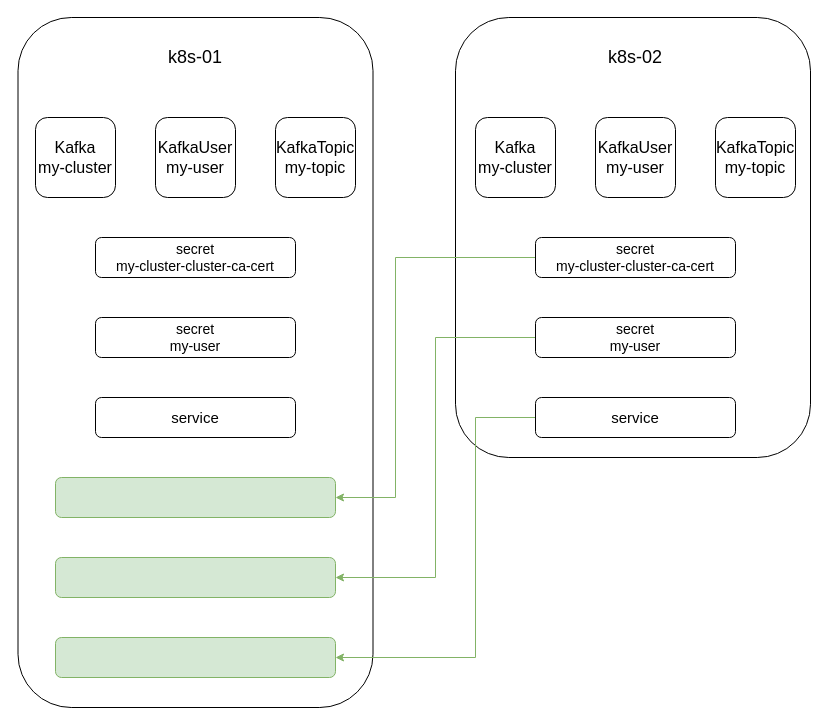
Image size: 828x725. Some labels were removed from this diagram. The centre of each missing label's shape, as x and y in pixels:
"secret destination-my-cluster-cluster-ca-cert" belongs at (x=195, y=497).
"secret destination-my-user" belongs at (x=195, y=577).
"service EndPoint" belongs at (x=195, y=657).
